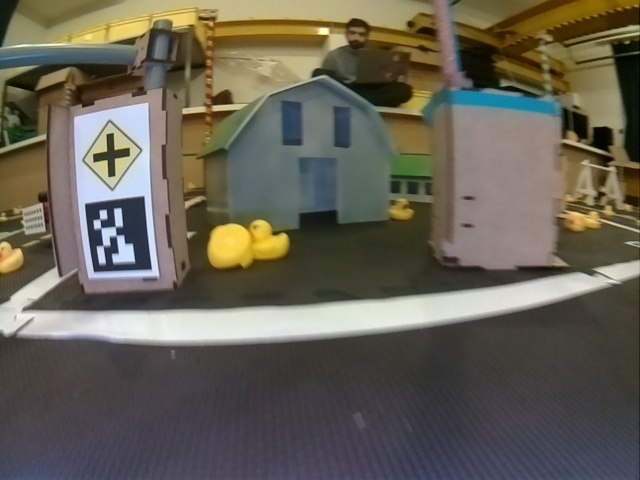Duckie: (207, 223, 250, 268), (250, 219, 290, 260), (0, 242, 24, 273), (389, 197, 414, 220), (567, 213, 584, 232), (587, 212, 601, 228)
Intersection sign: (82, 119, 143, 191)
QR code: (85, 197, 151, 275)
